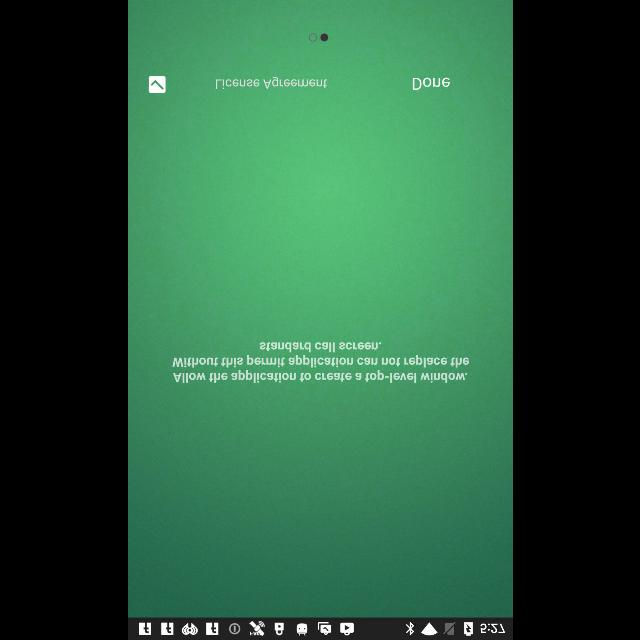checkbox: (148, 76, 164, 94)
pageindicator: (308, 32, 328, 42)
text: (172, 342, 468, 383), (214, 76, 326, 90), (412, 78, 450, 90)
uppertaskbar: (128, 617, 512, 639)
